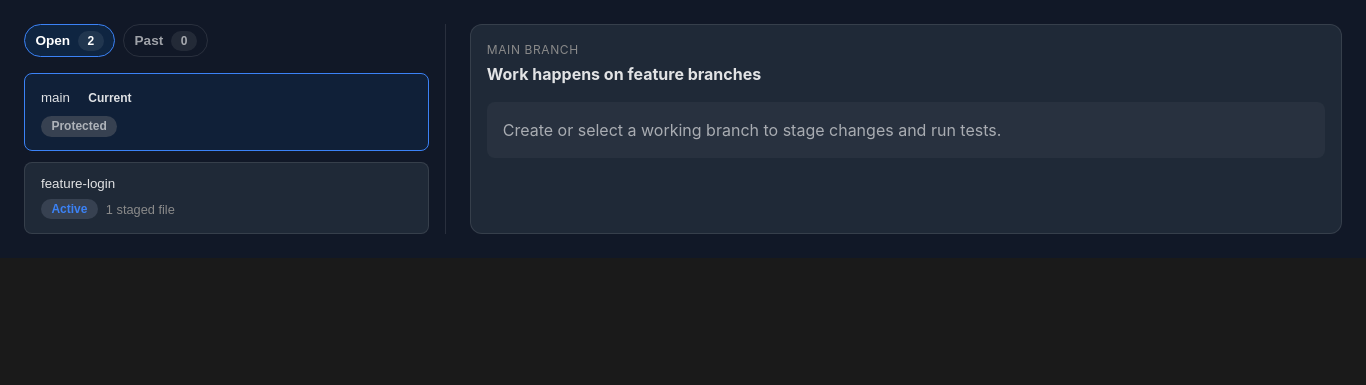
Test case: BranchTab › hides Skip testing CTA and hint when staged changes include non-CSS files
Check: the button with test id "branch-list-item-main" is shown, box [24,73,429,151]
Click the button with test id "branch-list-item-feature-login".
click(78, 184)  # box [24,162,429,234]
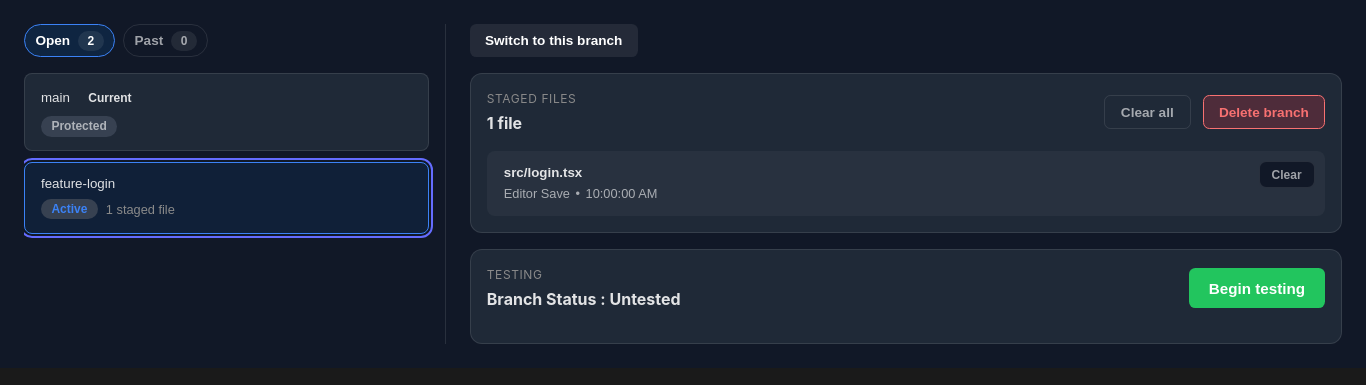
Check: the button with test id "branch-begin-testing" is shown, box [1189,268,1325,308]
